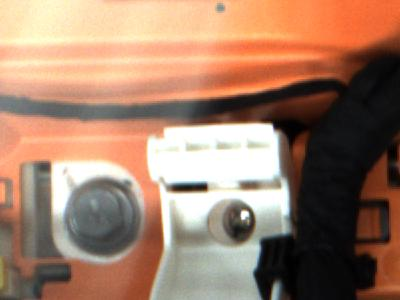nut_b: (59, 173, 143, 259)
